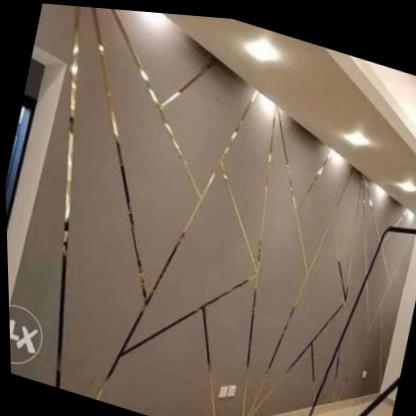Wall Panel: (7, 3, 416, 416)
